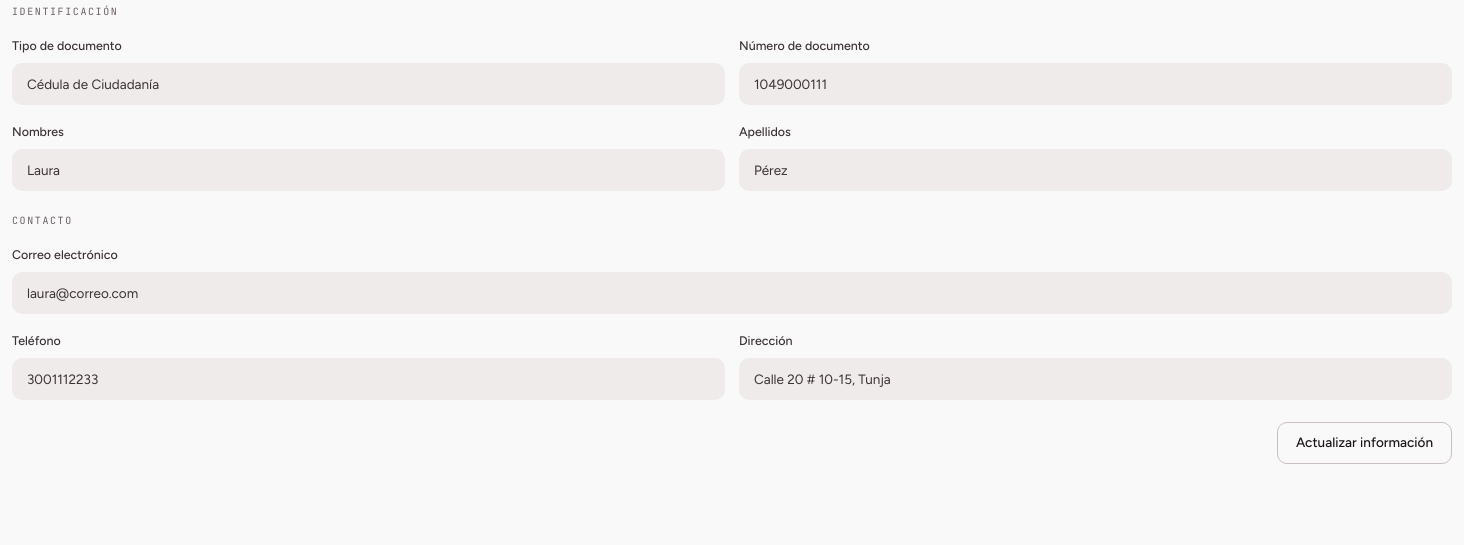
it: CustomerDataForm saving › goes back to read mode after saving
Step 1. Click the button "Actualizar información" → click(1364, 443), box [1277, 422, 1452, 464]
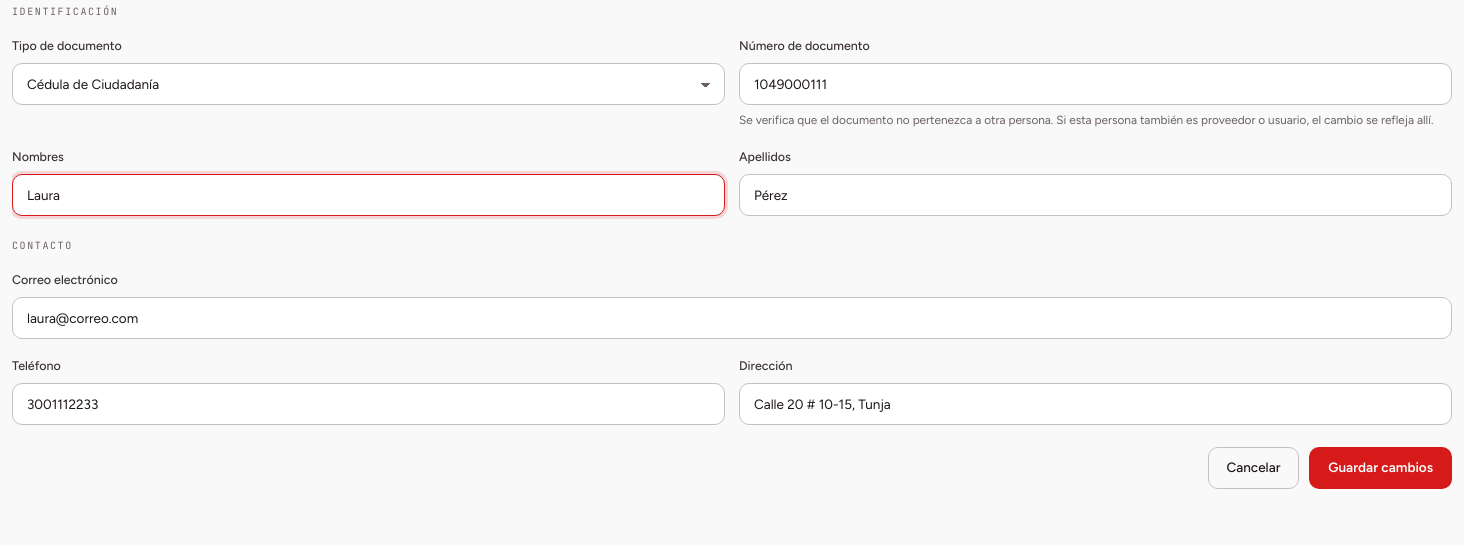
Step 2. Replace the text in the field labelled "Dirección" with "Carrera 9 # 8-7" → (1096, 404), box [739, 383, 1452, 425]
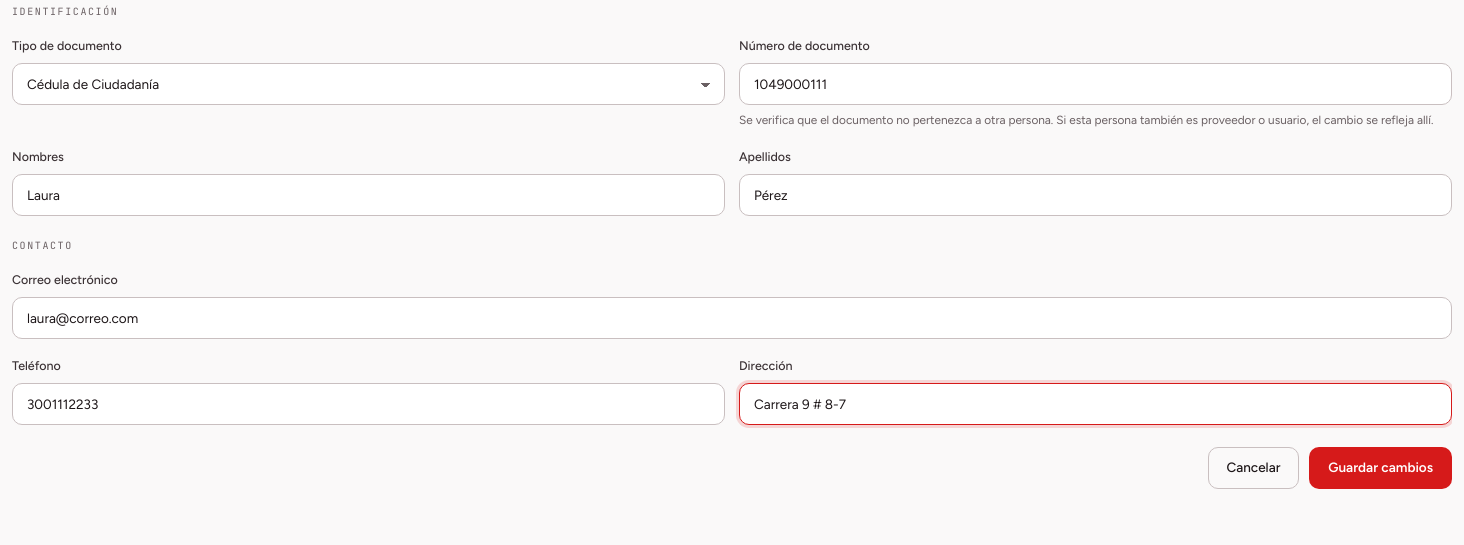
Step 3. Click the button "Guardar cambios" → click(1381, 468), box [1309, 447, 1452, 489]
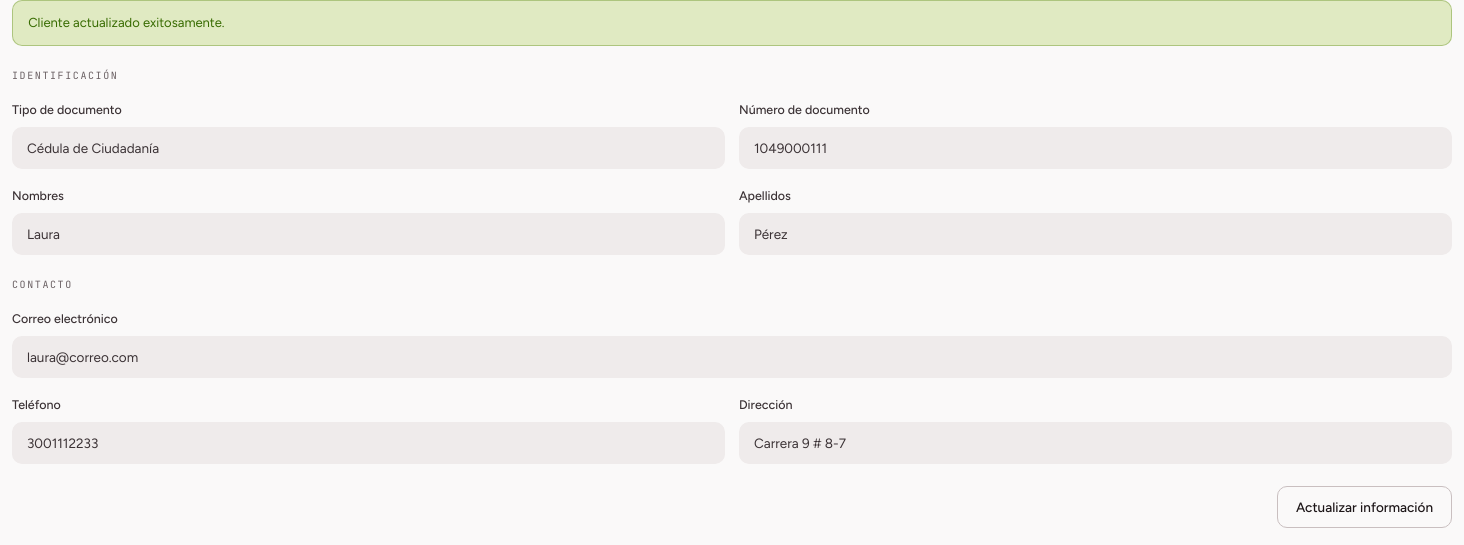
expect the button "Actualizar información" is shown: met, box [1277, 486, 1452, 528]
